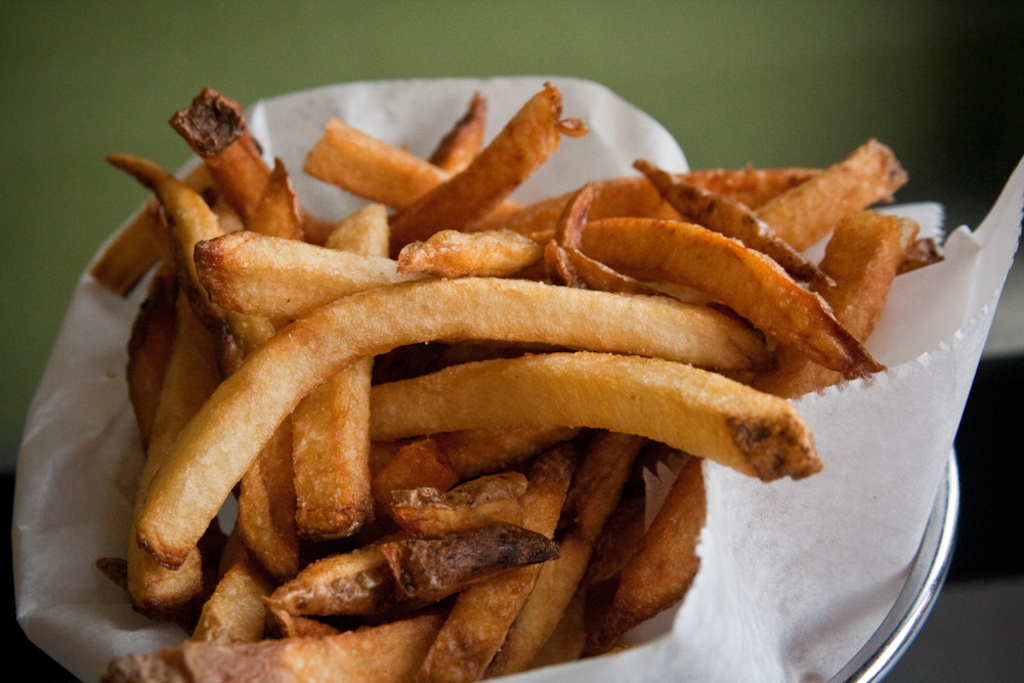French fries: (108, 87, 863, 683)
